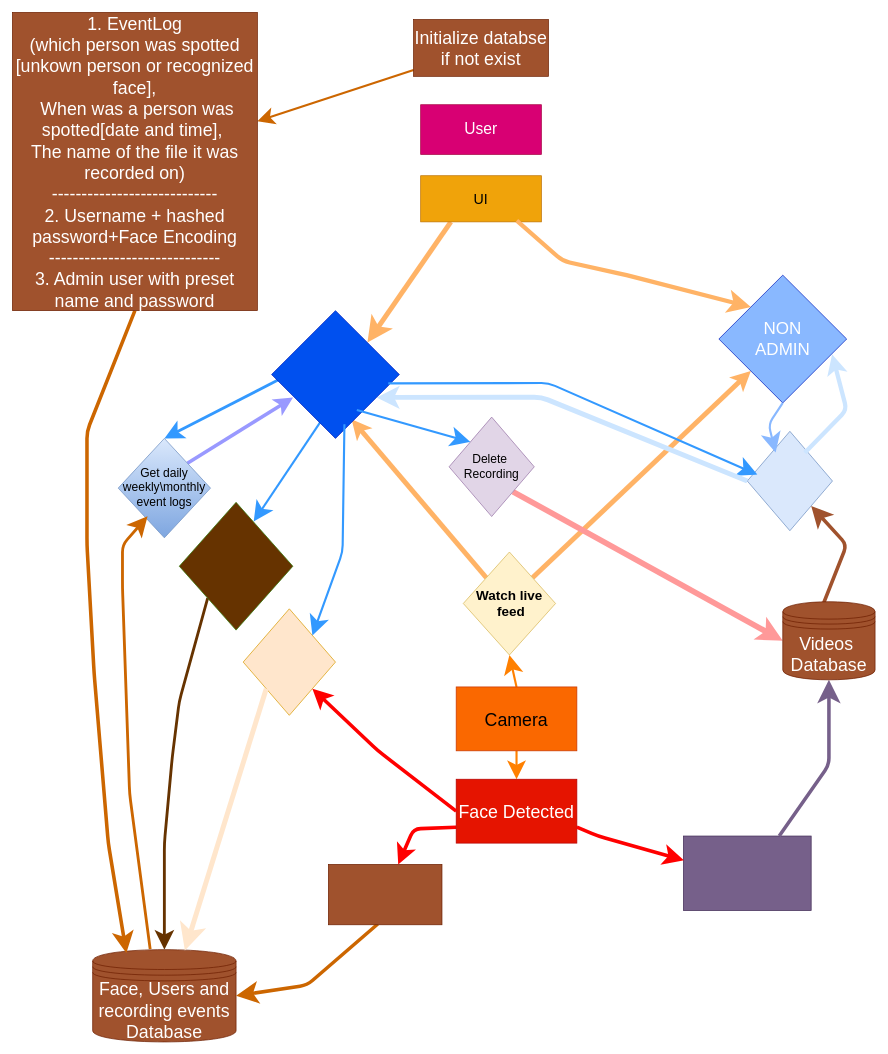
The diagram is 888 pixels wide and 1054 high, and some of its shapes have lost their labels. Here are the shapes that lost their labels. From the top down, the centre of each, then its label:
[335,374]: ADMIN
[789,481]: Download recordings
[236,566]: Register and Delete Users
[288,661]: Register face Encoding + Face name
[747,873]: Record events and save file
[385,894]: Save Events logs + name of file of the recorded event
